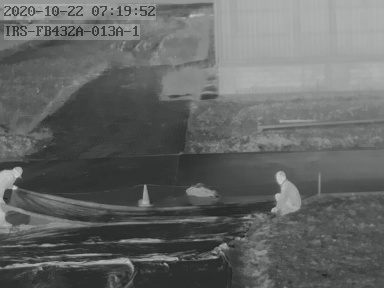person: (271, 168, 301, 214)
